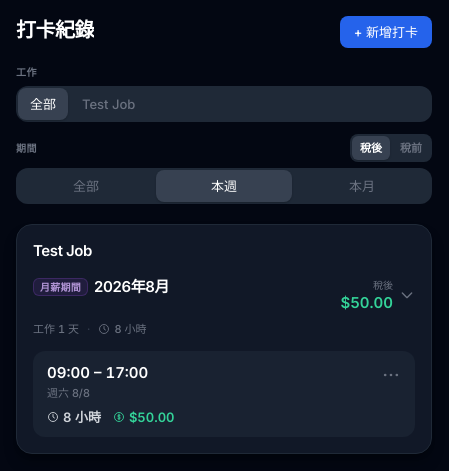
Test: RecordsPage — 薪資週收合 › 點擊薪資週 header 可收合，最新一週預設展開
Click the button "月薪期間 2026年8月 稅後 $50.00 工作 1 天 · 8 小時" at [60, 287], box [33, 277, 415, 337]
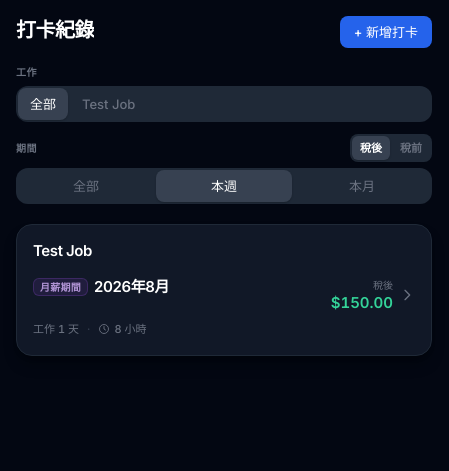
Now the button "月薪期間 2026年8月 稅後 $150.00 工作 1 天 · 8 小時" is collapsed, box [33, 277, 415, 337]
